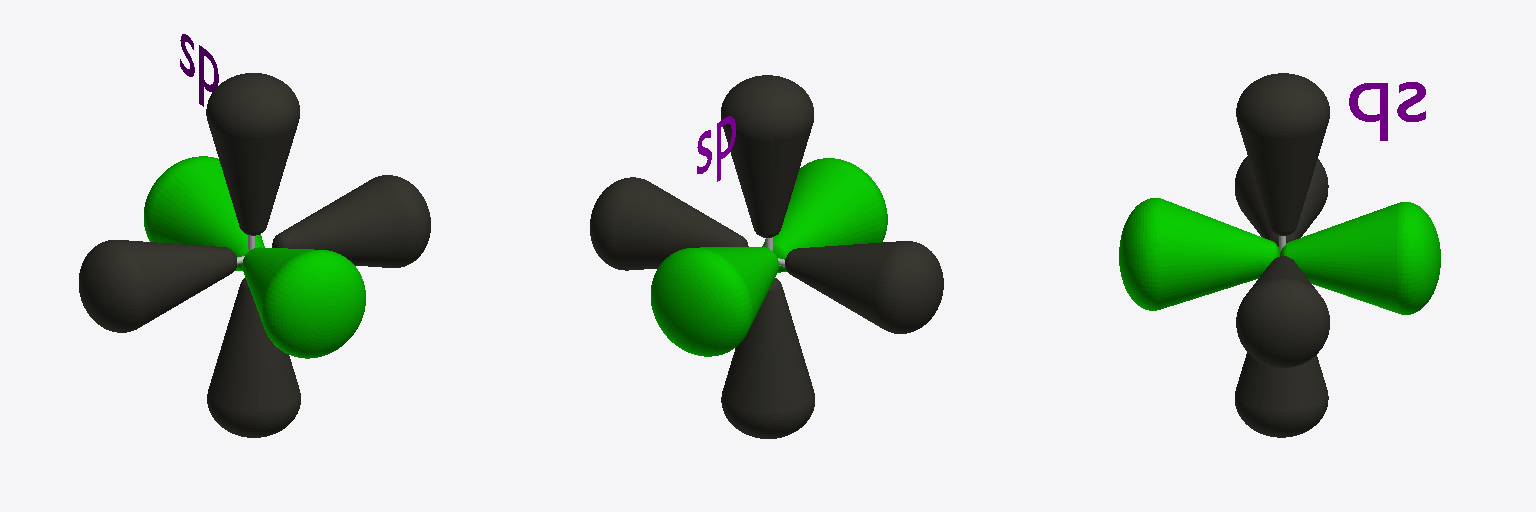
The picture shows the model from 3 angles: view 1: azimuth 30°, elevation 25°; view 2: azimuth 150°, elevation 25°; view 3: azimuth 270°, elevation 25°; orthographic projection.
Visible parts, largest first — view 1: suborbital_p.003_suborbital_p.033, suborbital_p.009_suborbital_p.037, suborbital_p.004_suborbital_p.038, suborbital_p.005_suborbital_p.059, suborbital_p.008_suborbital_p.036, suborbital_p.007_suborbital_p.035, Text_Text.080; view 2: suborbital_p.007_suborbital_p.035, suborbital_p.004_suborbital_p.038, suborbital_p.009_suborbital_p.037, suborbital_p.008_suborbital_p.036, suborbital_p.005_suborbital_p.059, suborbital_p.003_suborbital_p.033, Text_Text.080; view 3: suborbital_p.003_suborbital_p.033, suborbital_p.007_suborbital_p.035, suborbital_p.009_suborbital_p.037, suborbital_p.005_suborbital_p.059, suborbital_p.008_suborbital_p.036, suborbital_p.004_suborbital_p.038, Text_Text.080.
Boxes of the visible parts, box(x1,y1,x2,y2) form: suborbital_p.003_suborbital_p.033: box(242, 247, 365, 358); suborbital_p.009_suborbital_p.037: box(206, 73, 299, 235); suborbital_p.004_suborbital_p.038: box(79, 240, 236, 332); suborbital_p.005_suborbital_p.059: box(272, 175, 430, 267); suborbital_p.008_suborbital_p.036: box(207, 278, 300, 437); suborbital_p.007_suborbital_p.035: box(144, 156, 264, 270); Text_Text.080: box(180, 34, 218, 106); suborbital_p.007_suborbital_p.035: box(651, 247, 778, 356); suborbital_p.004_suborbital_p.038: box(785, 241, 943, 333); suborbital_p.009_suborbital_p.037: box(721, 75, 813, 237); suborbital_p.008_suborbital_p.036: box(721, 278, 814, 438); suborbital_p.005_suborbital_p.059: box(590, 177, 748, 270); suborbital_p.003_suborbital_p.033: box(762, 158, 887, 272); Text_Text.080: box(697, 116, 735, 181); suborbital_p.003_suborbital_p.033: box(1119, 198, 1279, 310); suborbital_p.007_suborbital_p.035: box(1280, 202, 1440, 314); suborbital_p.009_suborbital_p.037: box(1236, 73, 1329, 235); suborbital_p.005_suborbital_p.059: box(1236, 256, 1329, 367); suborbital_p.008_suborbital_p.036: box(1235, 352, 1328, 437); suborbital_p.004_suborbital_p.038: box(1235, 156, 1328, 246); Text_Text.080: box(1349, 82, 1425, 140).
Size of the model in its own units: 4.09 by 4.09 by 3.37.